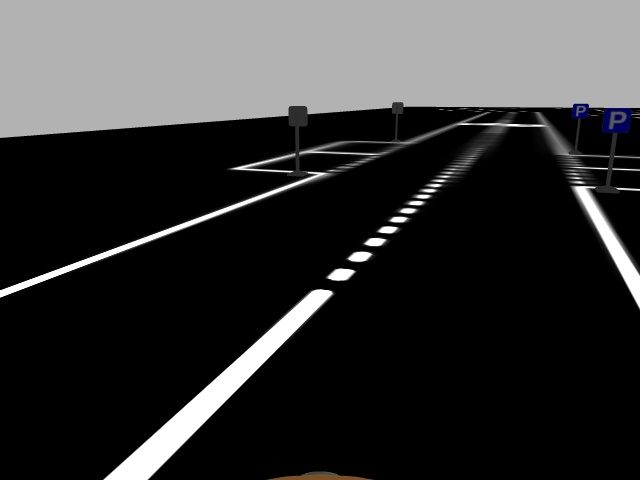parking: (601, 107, 631, 134), (571, 102, 589, 119)
